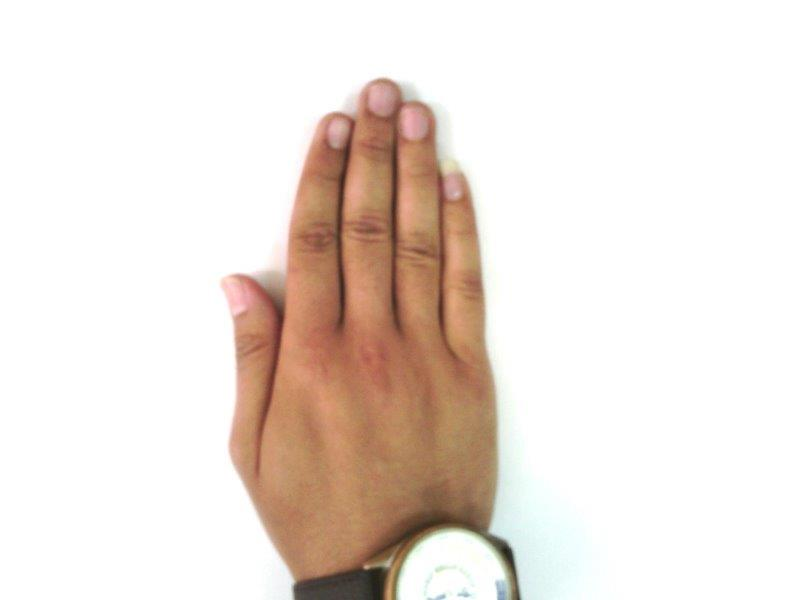hand: (219, 78, 495, 559)
